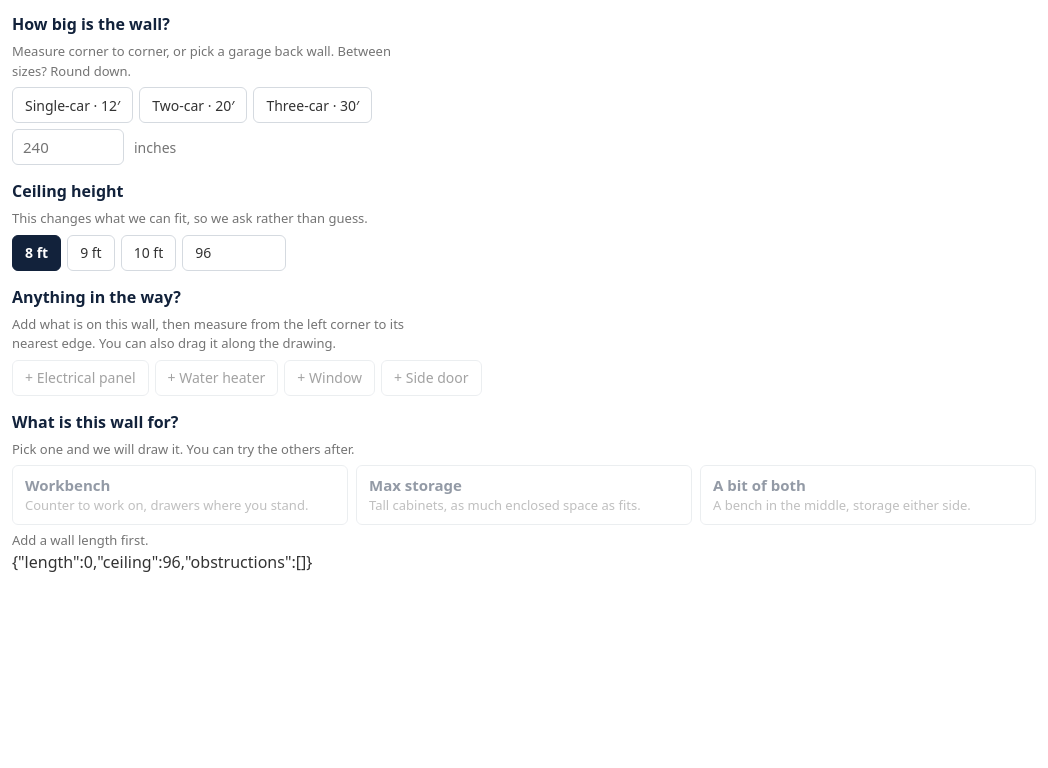
Test case: WallInputs › says when a window would go through the ceiling
Type "120" into the number field named "wall length in inches".
click(68, 147); type("120")  # box top-left (12, 129), bottom-right (124, 165)
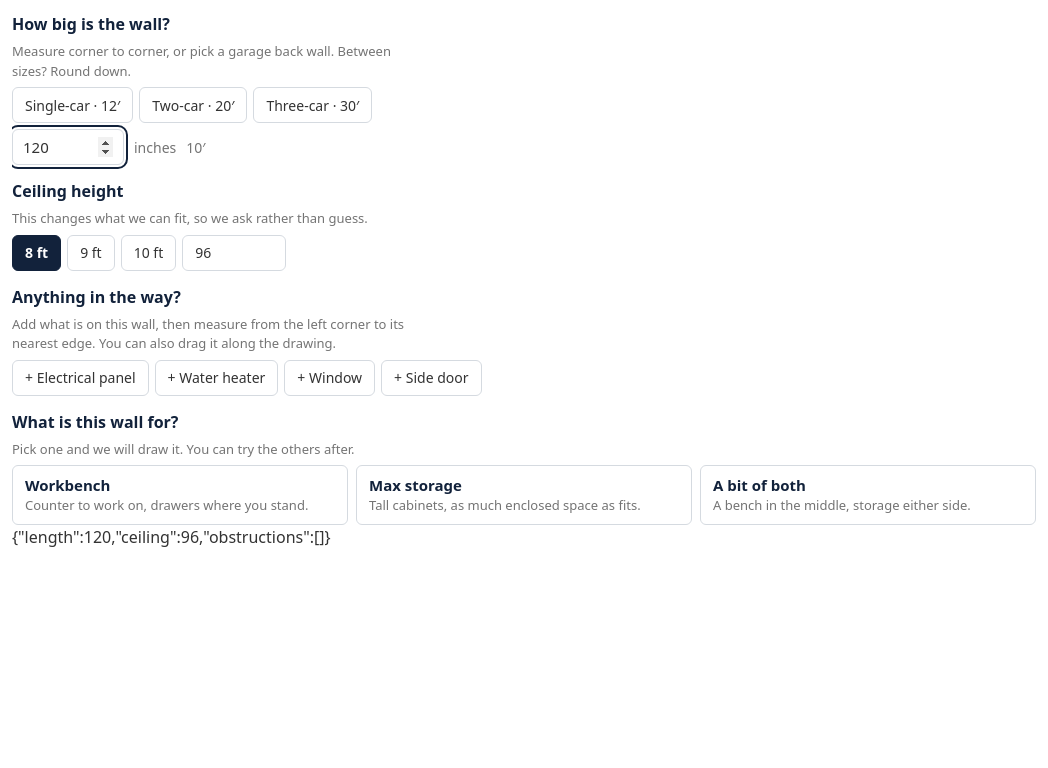
Click the button with aria-label "add window".
click(330, 378)  # box top-left (284, 360), bottom-right (375, 396)
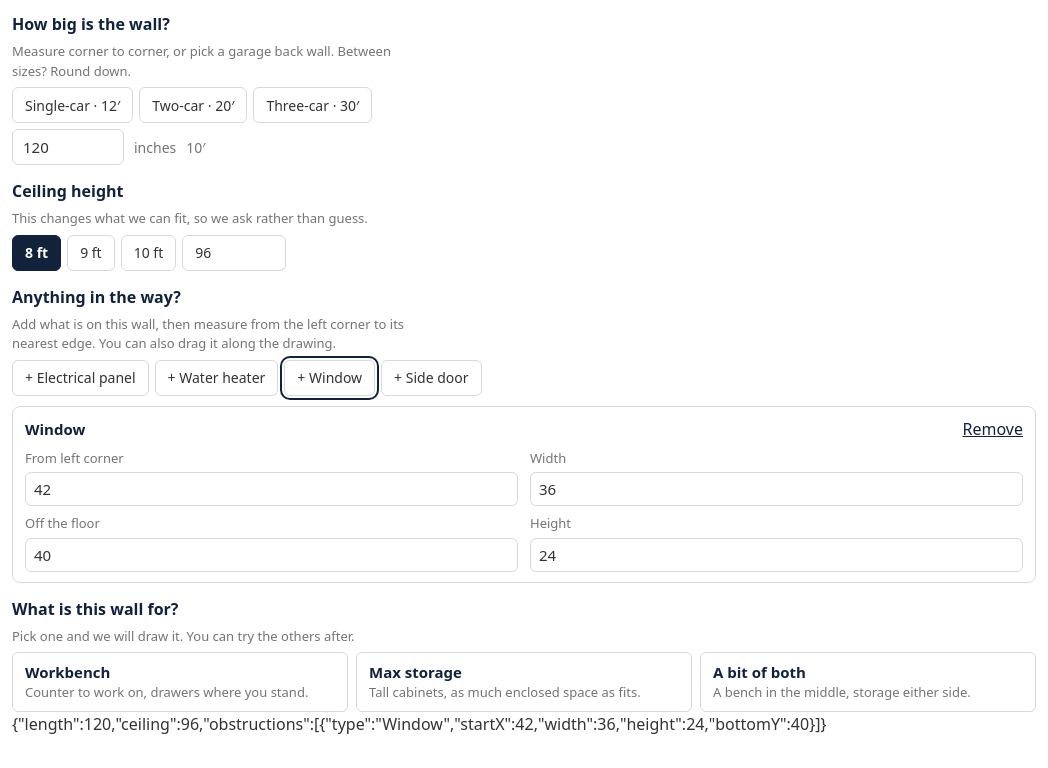
Replace the text in the number field named "window off the floor" with "90" at (272, 554), box top-left (25, 538), bottom-right (518, 572)
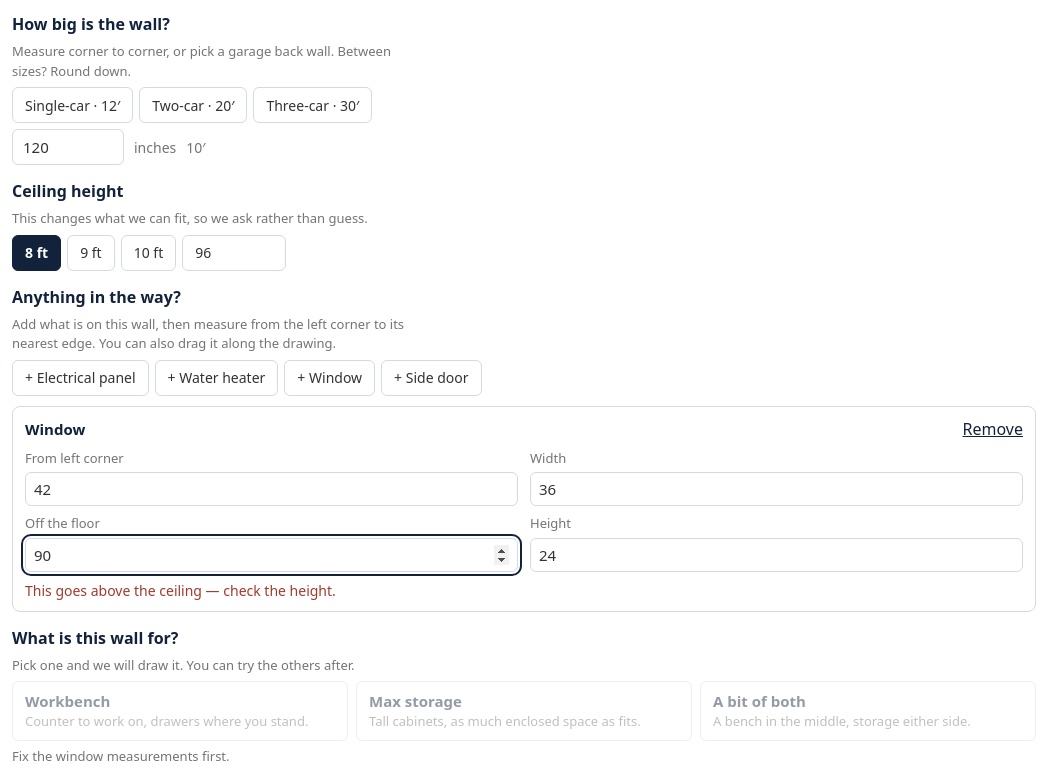
Expected: the text "This goes above the ceiling — check the height." is shown, top-left (25, 580), bottom-right (336, 600)
